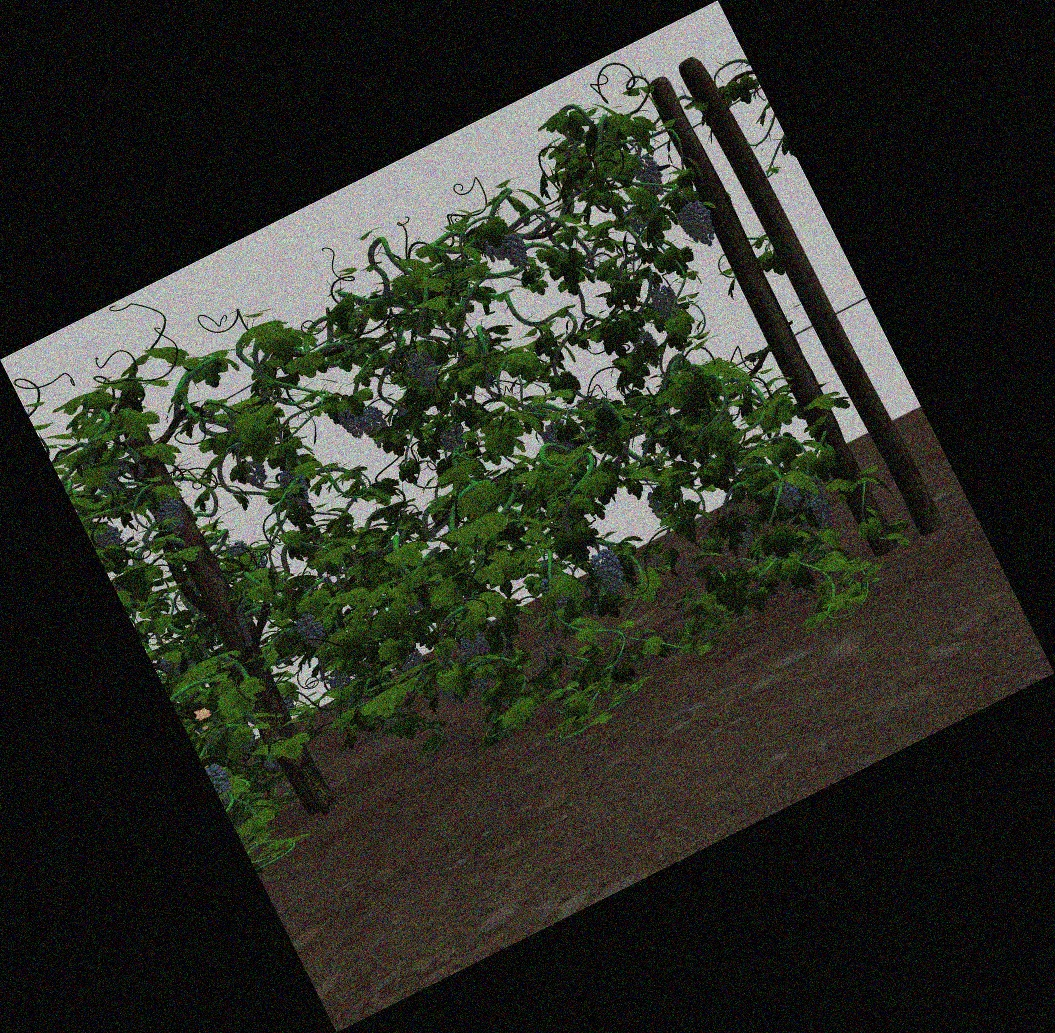grape: (683, 204, 712, 247), (596, 550, 623, 594), (156, 495, 184, 532), (411, 352, 437, 389), (639, 156, 662, 196), (298, 611, 323, 647), (653, 284, 677, 319), (283, 469, 306, 504), (457, 634, 488, 659), (504, 233, 526, 266), (362, 404, 384, 436), (213, 762, 232, 799), (777, 480, 799, 511), (341, 405, 361, 439), (812, 496, 832, 529), (245, 461, 266, 487), (485, 236, 505, 262), (230, 541, 249, 557)
